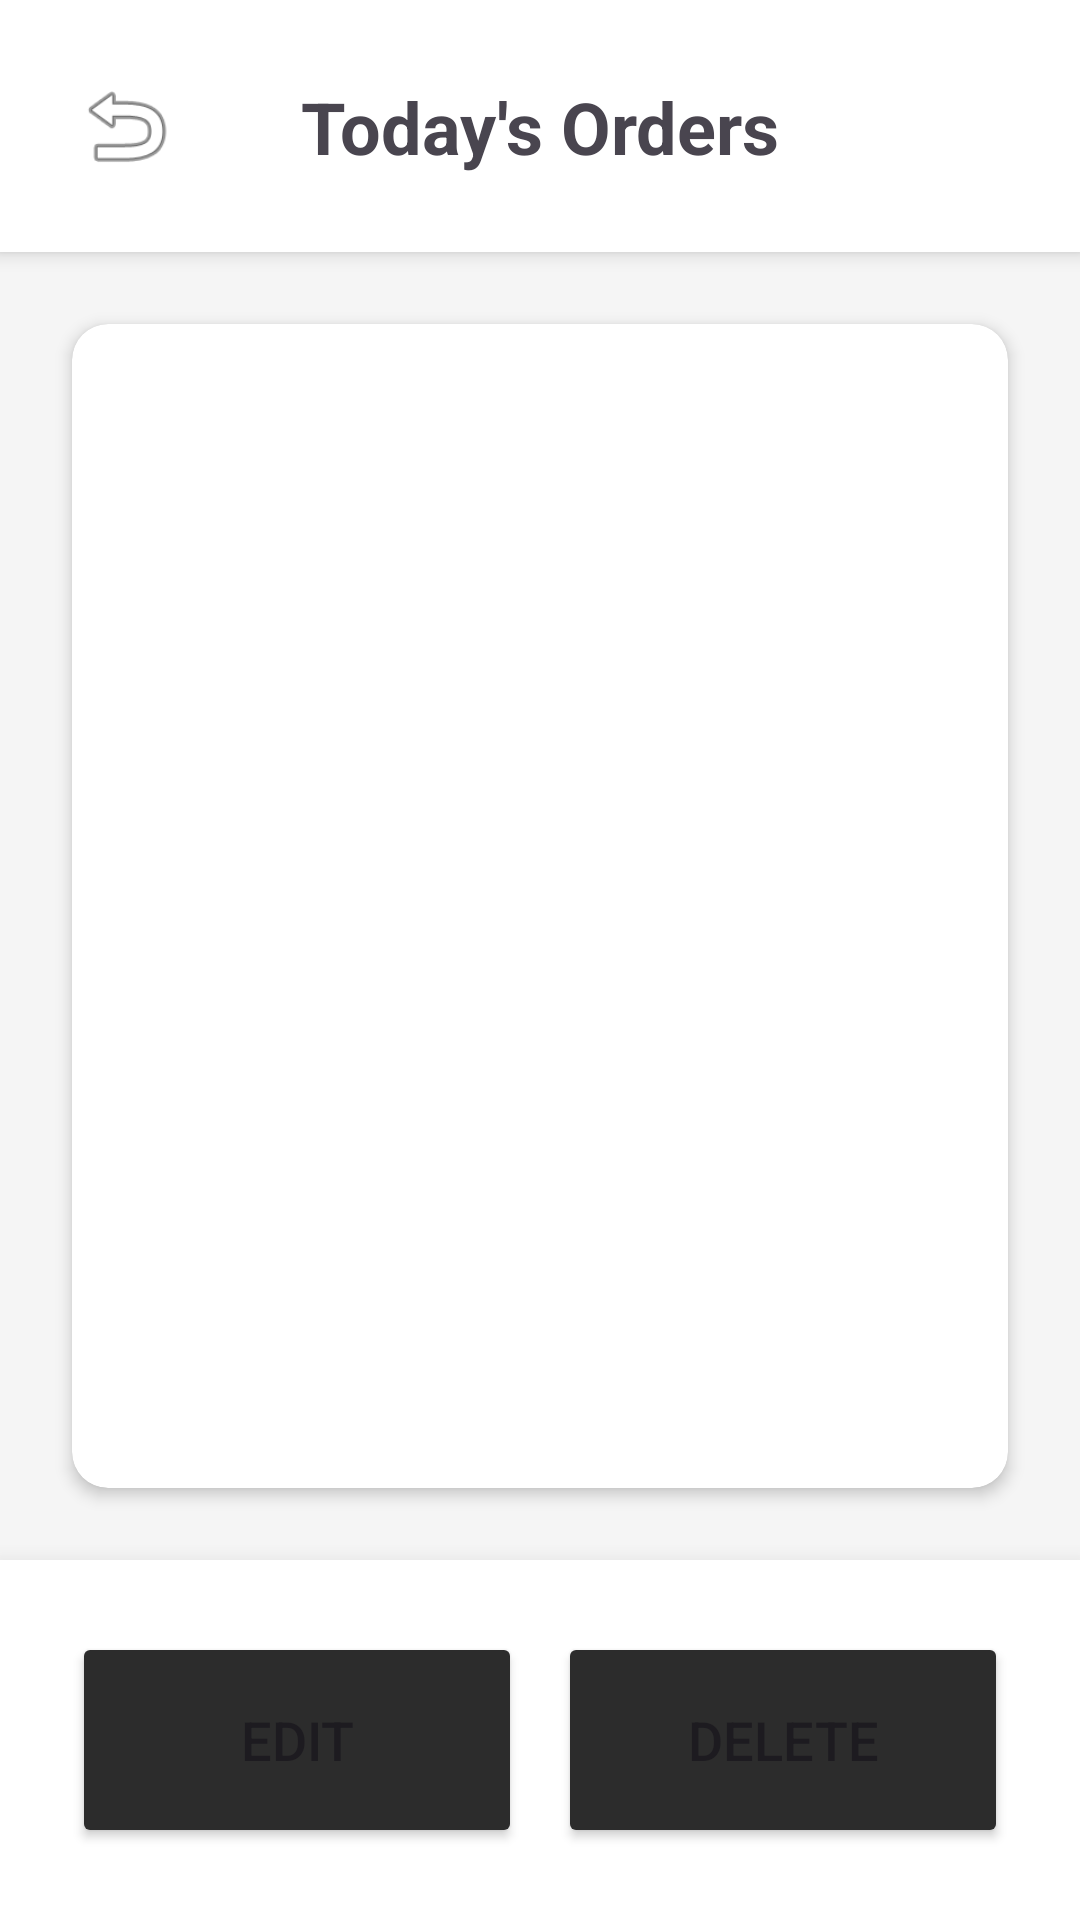

Icon bounding boxes for this 1080px×1920px phone screenshot, format (x1, y1, x2, y2):
revert: (88, 92, 167, 162)
